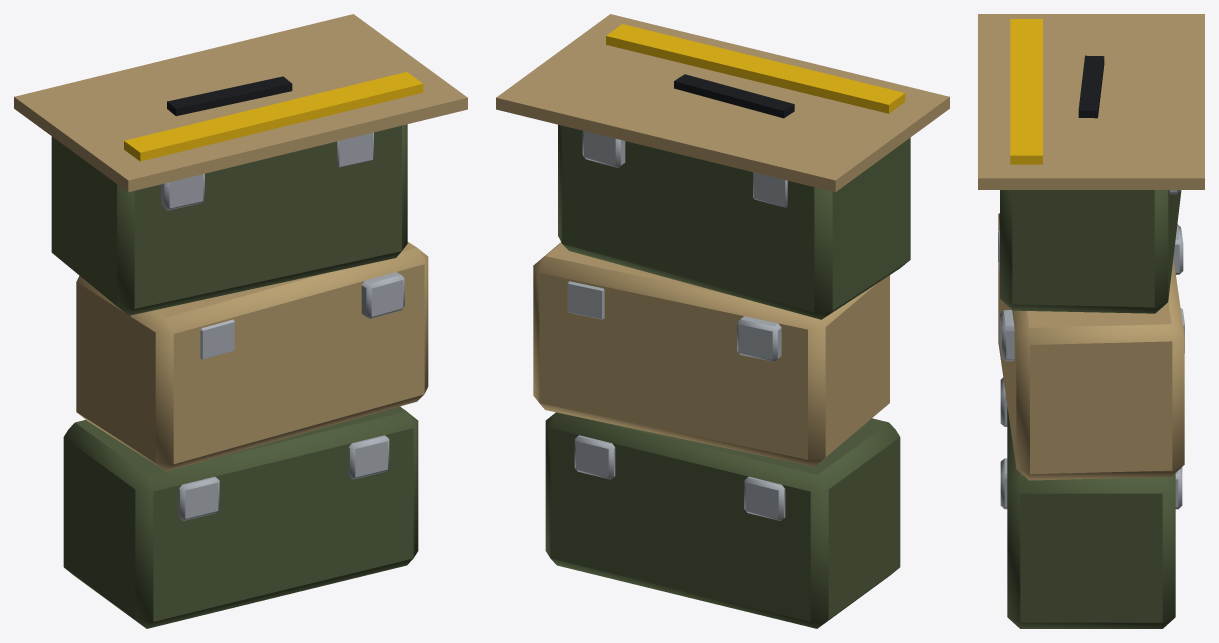
File: crate_ammo_stack.glb
3 views of the same model, side by side, from view 1: azimuth 30°, elevation 25°; view 2: azimuth 150°, elevation 25°; view 3: azimuth 270°, elevation 25° (orthographic).
Parts seen in each view (by area): view 1: crate_ammo_stack; view 2: crate_ammo_stack; view 3: crate_ammo_stack.
Part boxes in pixels (x1=…): crate_ammo_stack: x1=14, y1=14, x2=467, y2=628; crate_ammo_stack: x1=496, y1=14, x2=949, y2=628; crate_ammo_stack: x1=978, y1=14, x2=1204, y2=628.
Bounding box in the file's own units: 0.6 × 0.815 × 0.35.
